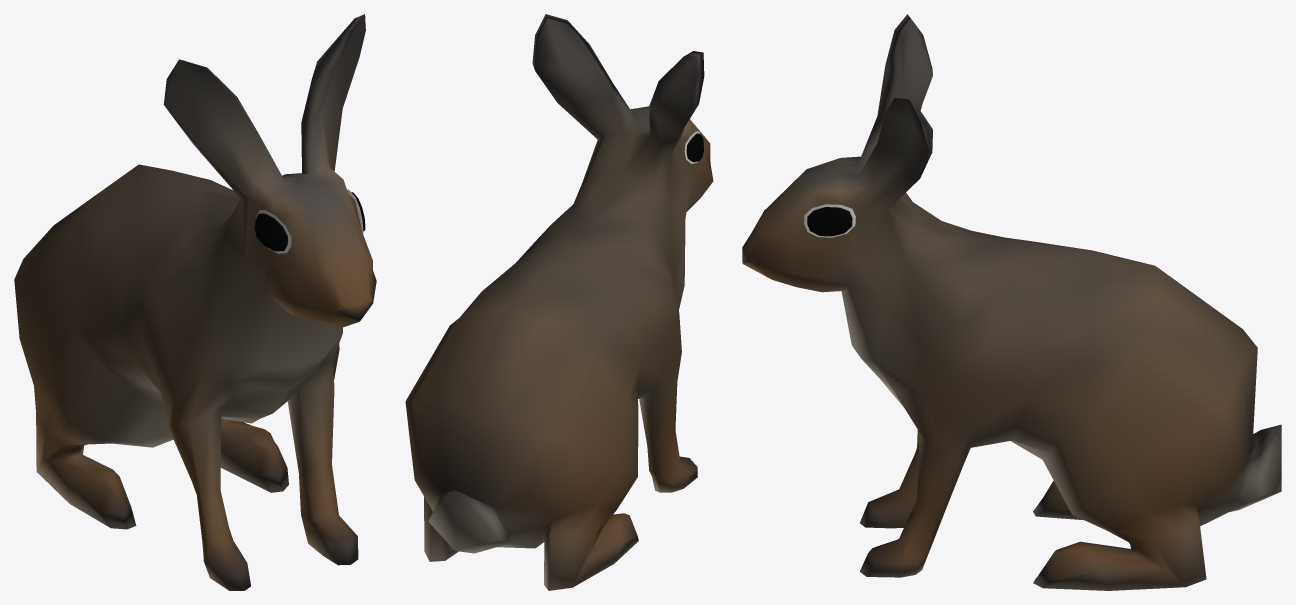
The model's file is animals-animals-hare_v1.glb.
3 renders of one model, left to right at view 1: azimuth 30°, elevation 25°; view 2: azimuth 150°, elevation 25°; view 3: azimuth 270°, elevation 25°, orthographic. The views are drawn at different scales.
Visible parts, largest first — view 1: Hare.001; view 2: Hare.001; view 3: Hare.001.
Part boxes in pixels (<box>): Hare.001: <box>14,14,376,590</box>; Hare.001: <box>405,14,713,590</box>; Hare.001: <box>742,14,1281,590</box>.
Size of the model in its own units: 0.1765 by 0.399 by 0.3973.
